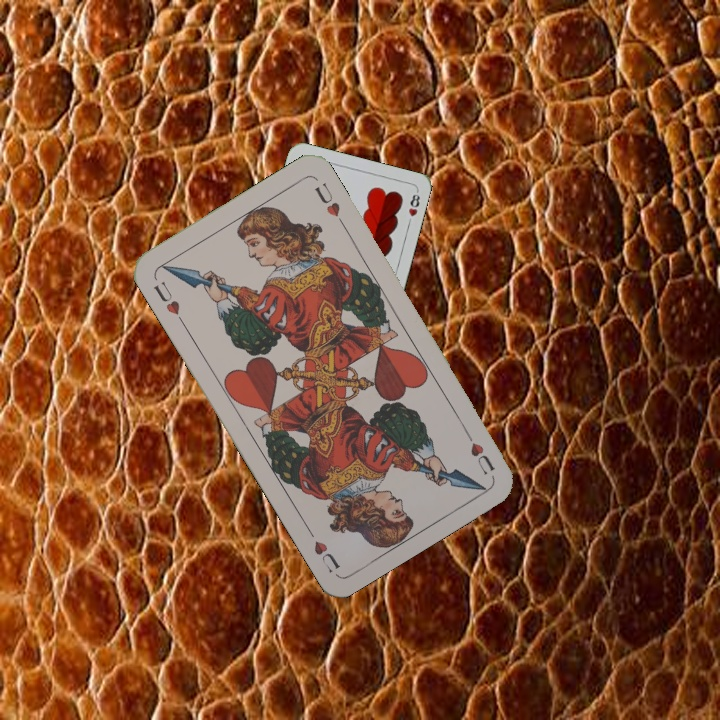HU: (460, 424, 498, 478), (149, 277, 187, 327)
